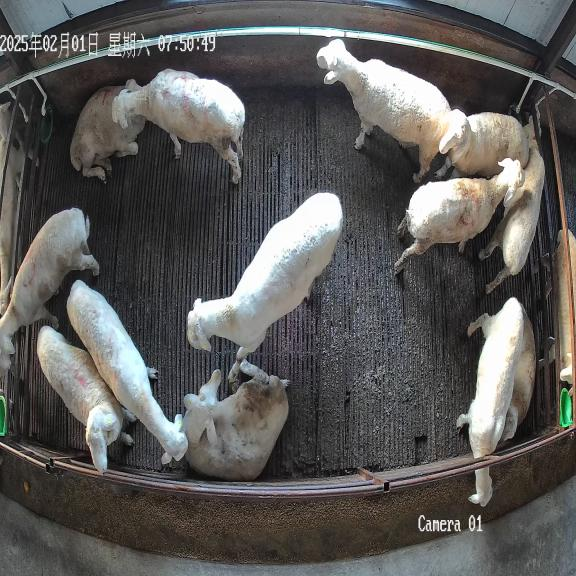drinking: (479, 117, 545, 294)
eating: (456, 297, 524, 506)
lying: (182, 360, 288, 481), (70, 79, 145, 182), (500, 314, 536, 441)
stand: (187, 193, 343, 382), (67, 280, 188, 461), (316, 39, 451, 182), (0, 208, 99, 375), (112, 69, 245, 183), (395, 158, 525, 273), (37, 326, 133, 472), (435, 109, 529, 178)
